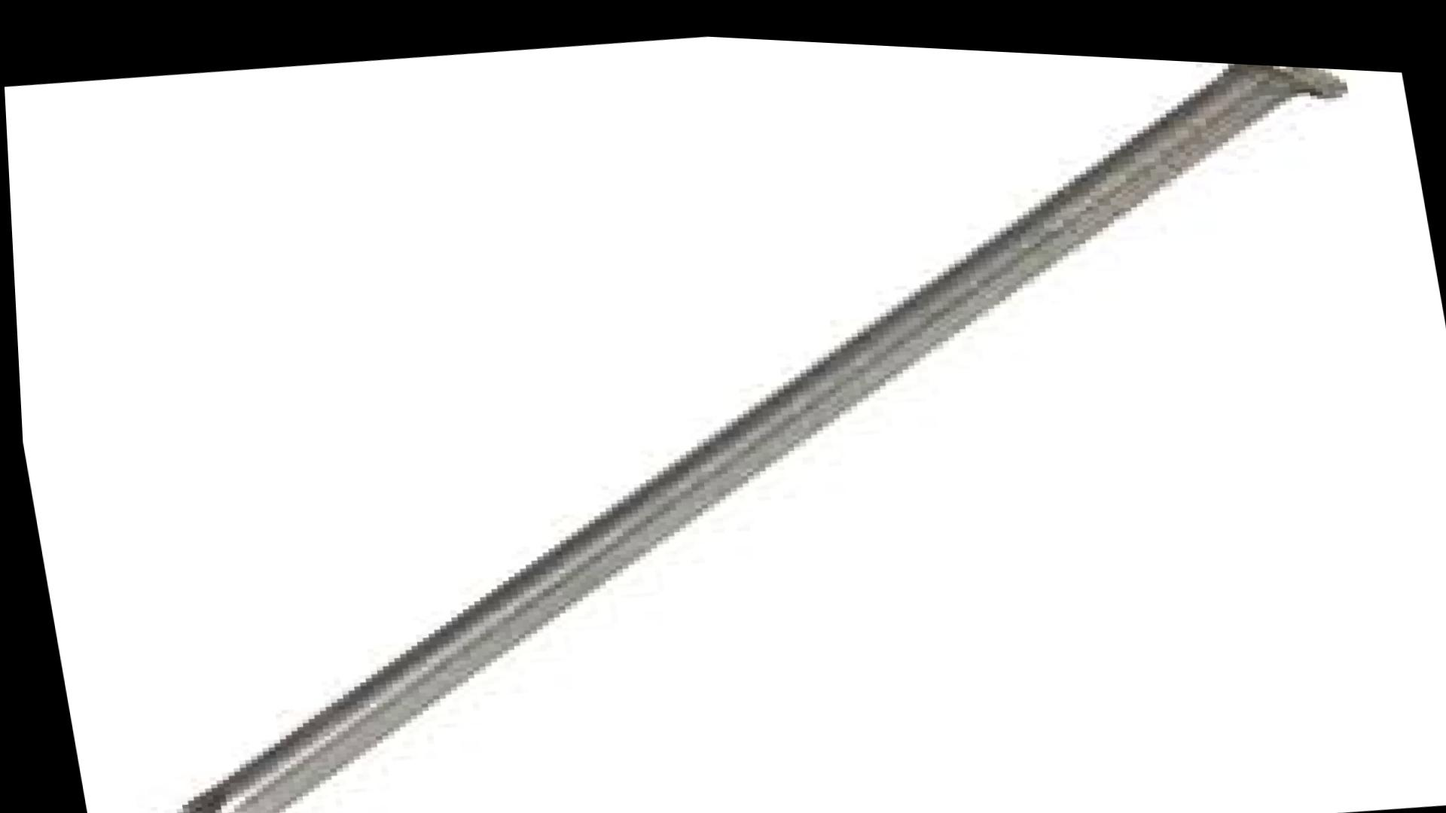nail: (15, 1, 1446, 813)
